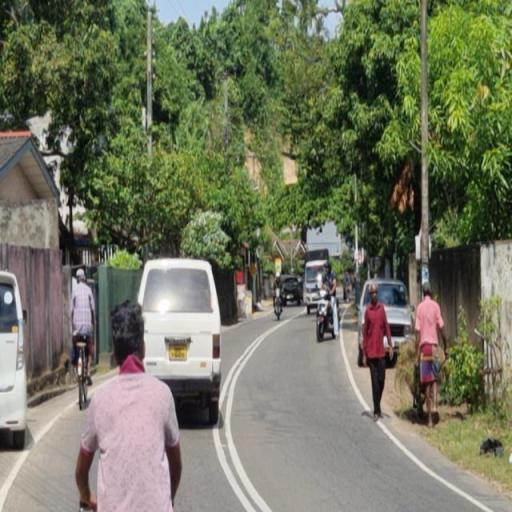double_white_line: (214, 323, 274, 512)
